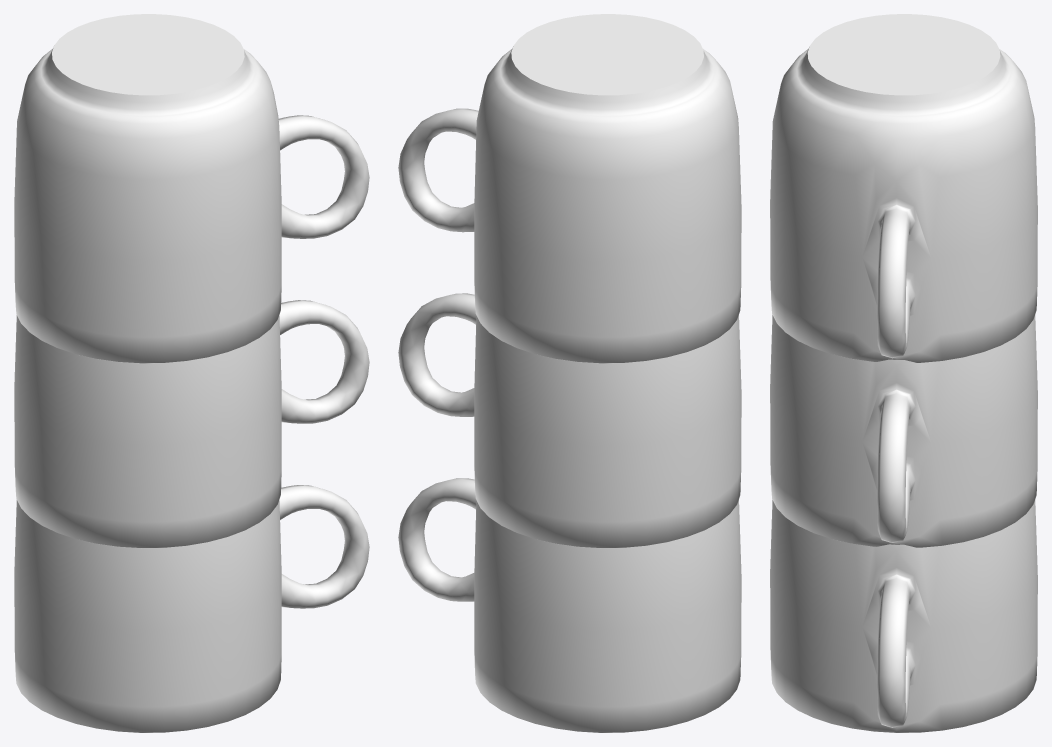
The model's file is Stack of cups.fbx.
3 views of the same model, side by side, from view 1: azimuth 30°, elevation 25°; view 2: azimuth 150°, elevation 25°; view 3: azimuth 270°, elevation 25° (orthographic).
Visible parts, largest first — view 1: Stack of cups; view 2: Stack of cups; view 3: Stack of cups.
Part boxes in pixels (x1,y1,x2,y2): Stack of cups: (14, 14, 369, 732); Stack of cups: (398, 14, 741, 732); Stack of cups: (770, 14, 1037, 732).
Size of the model in its own units: 8.6 by 15.59 by 6.07.
Materials: 1 (1 with a texture image).
